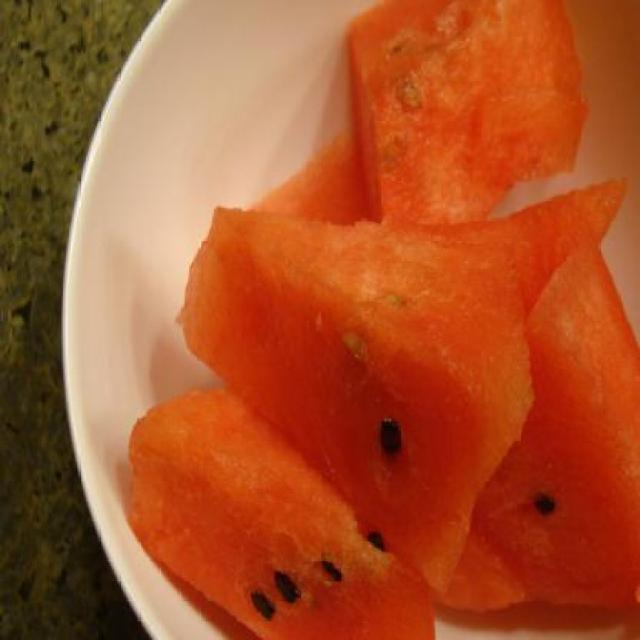Watermelon: (127, 0, 638, 638)
